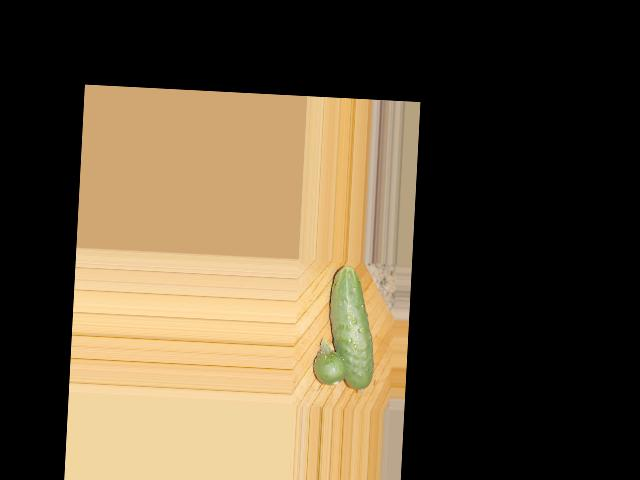cucumber: (325, 264, 378, 390)
